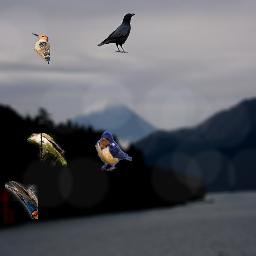Crow: (97, 13, 135, 53)
Cuckoo: (27, 133, 67, 167)
Swallow: (95, 131, 132, 171), (5, 181, 38, 219)
Woodpecker: (32, 33, 50, 64)
